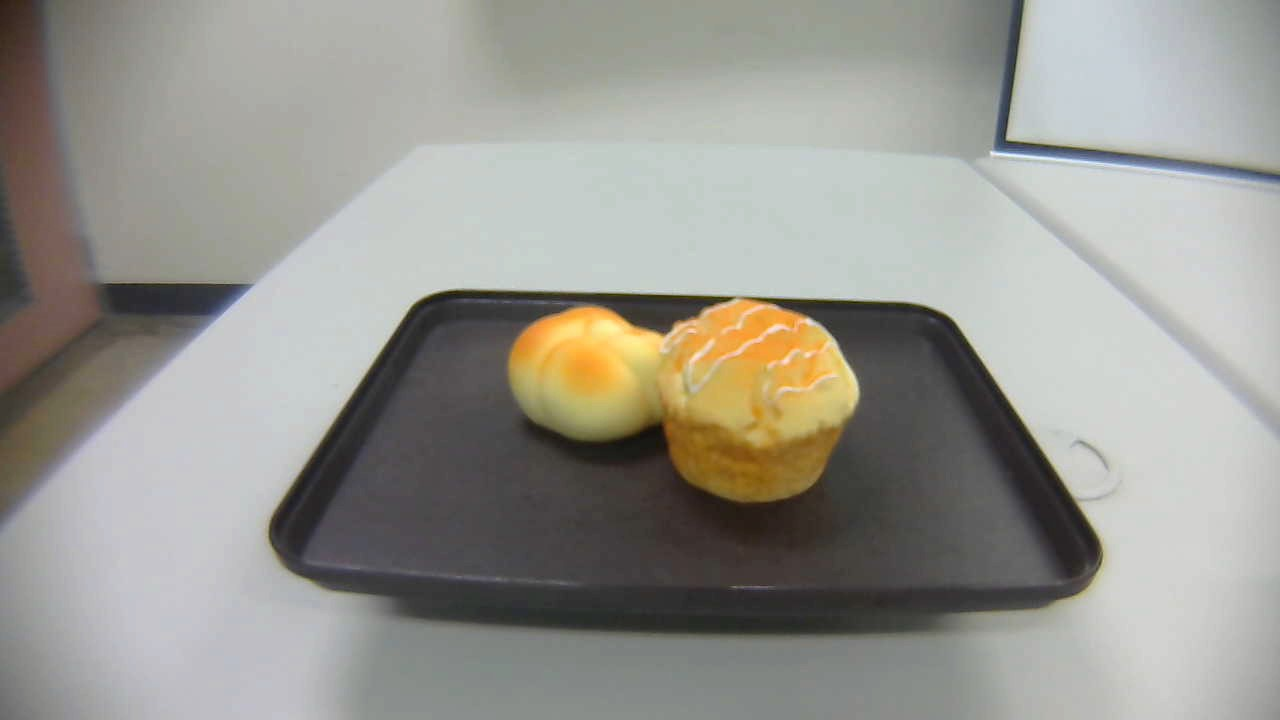cupcake: (658, 295, 861, 505)
twist bread: (508, 305, 664, 442)
